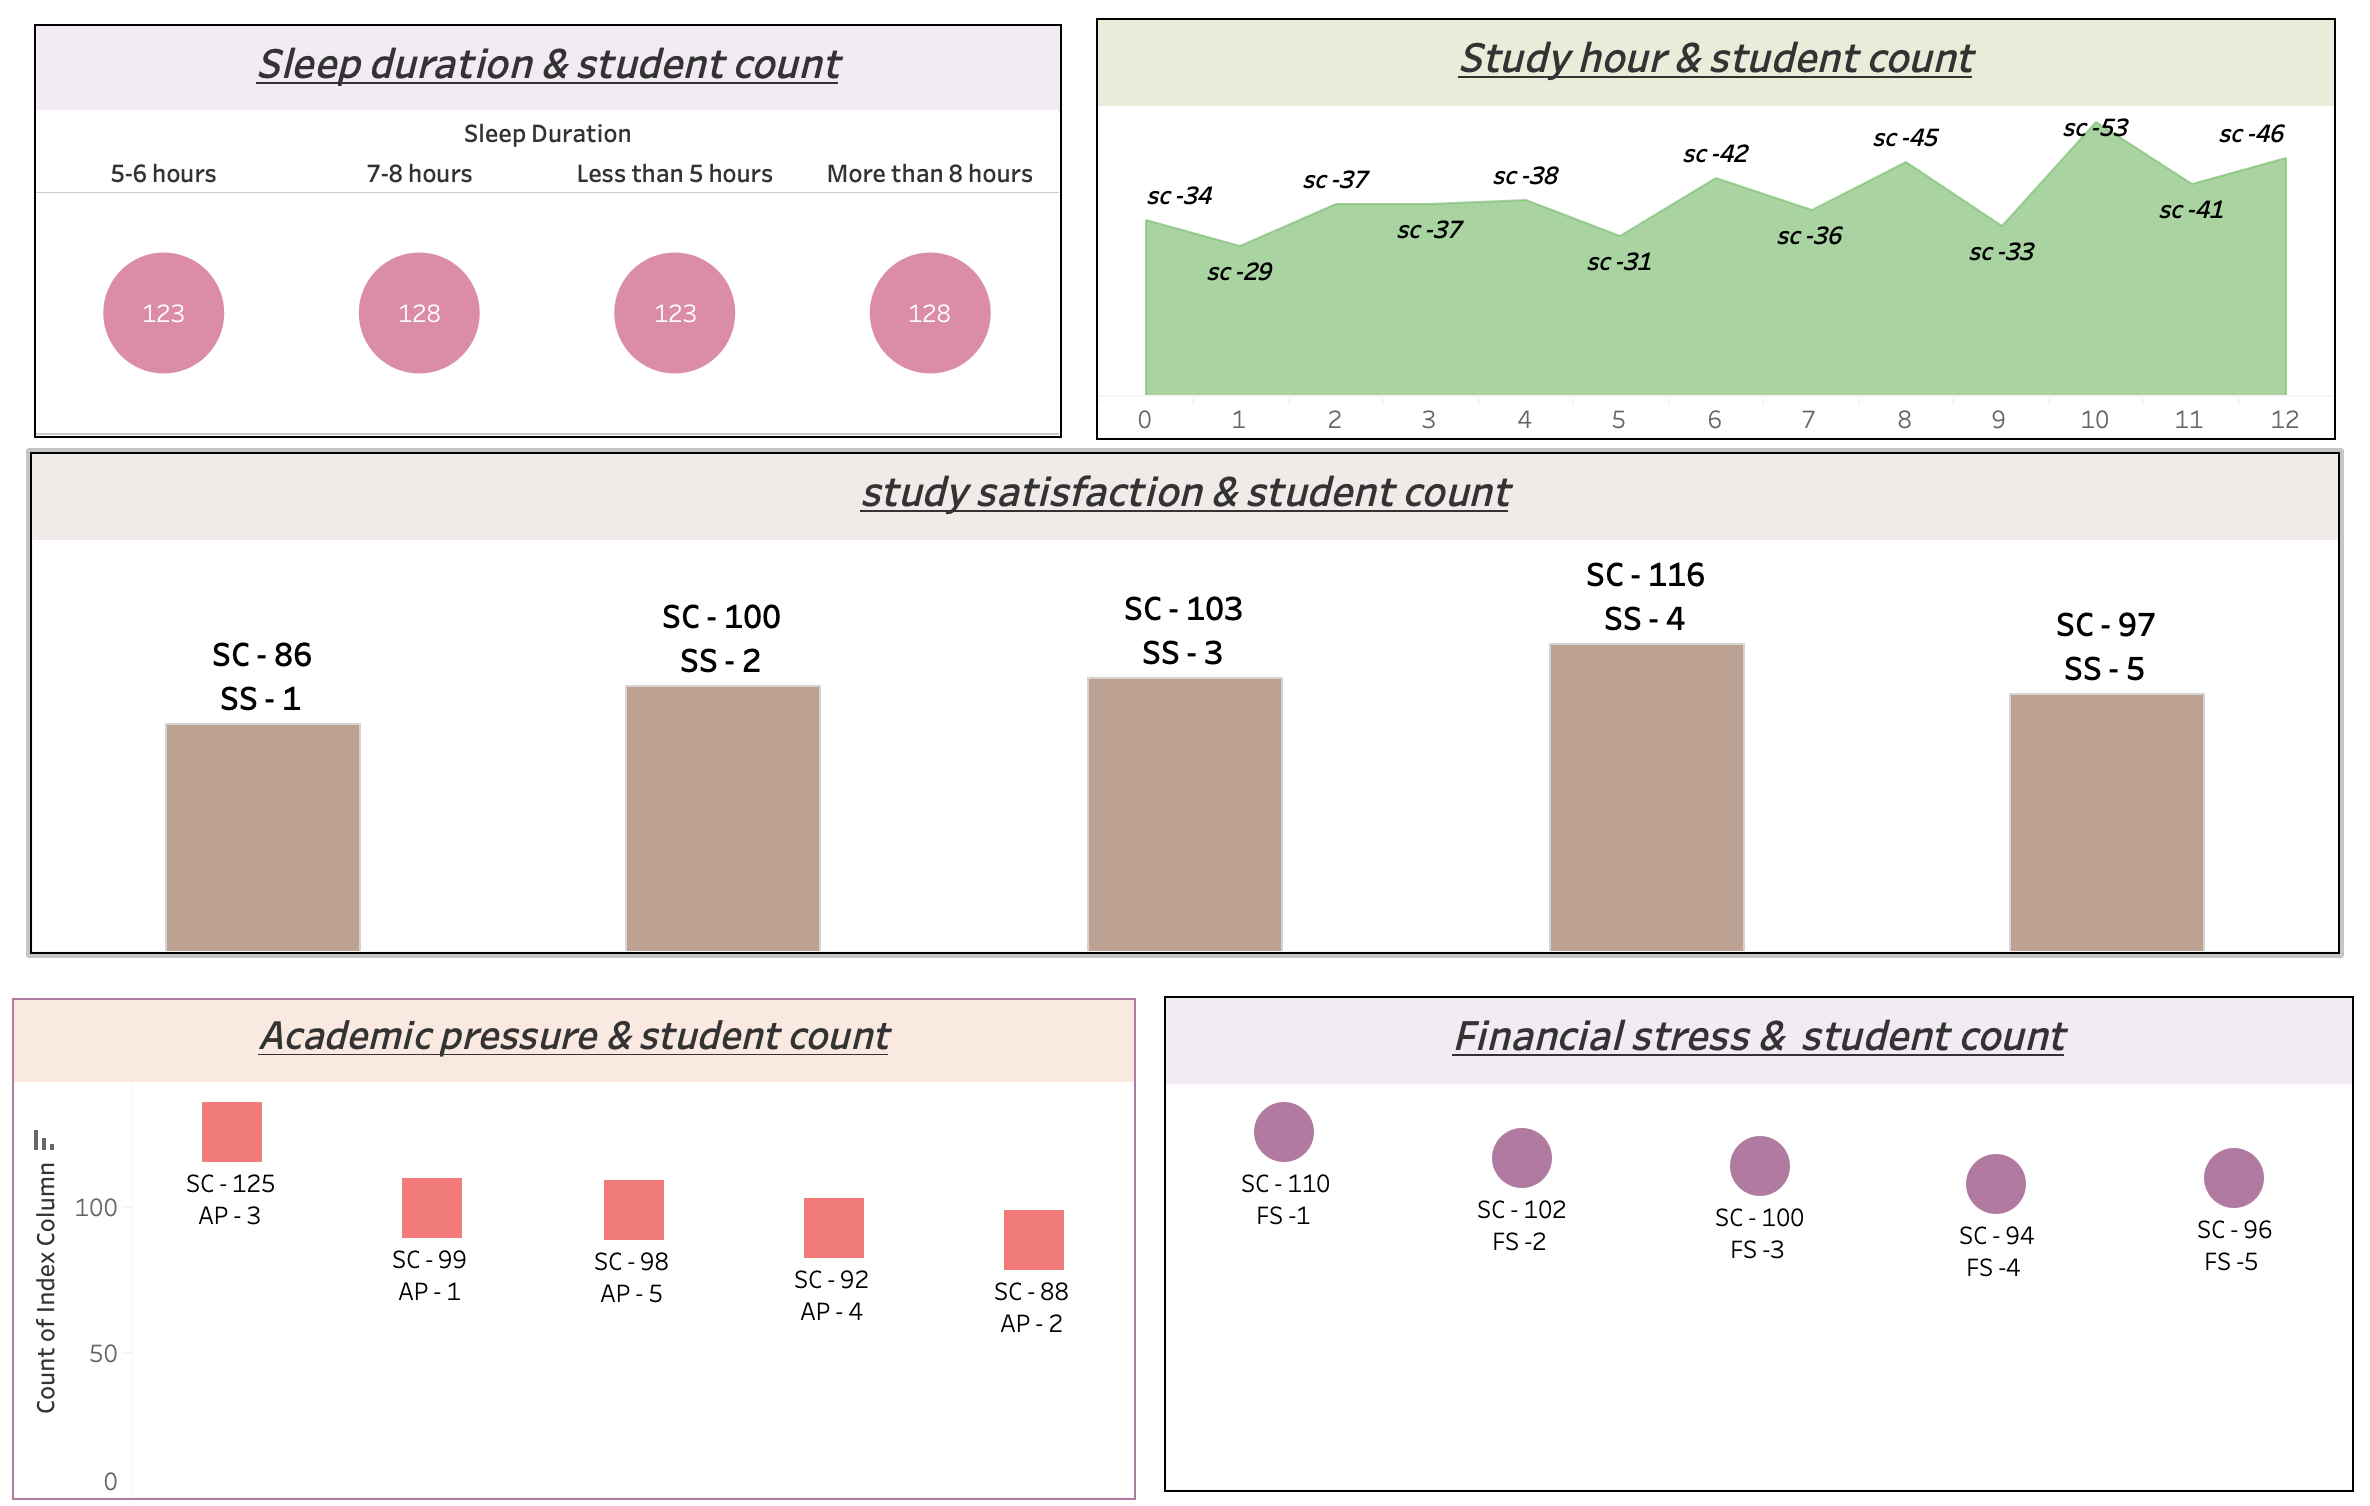

The page's visual inventory and layout, read from the dashboard file:
{"tool":"tableau","page":{"name":"Dashboard 1","canvas":[1000,1000],"units":"permille","ordinal":0},"visuals":[{"type":"worksheet","title":"sh","mark":"Area","rows":["index_column"],"cols":["Study_Hours"],"box":[445.9,14.6,504.5,279.5]},{"type":"worksheet","title":"sd","mark":"Pie","cols":["Sleep_Duration"],"box":[13.8,18.5,418.2,274.2]},{"type":"worksheet","title":"ss","mark":"Automatic","rows":["index_column"],"cols":["Study_Satisfaction"],"box":[12.2,302,939.8,332.4]},{"type":"worksheet","title":"fs","mark":"Circle","rows":["index_column"],"cols":["Financial_Stress"],"box":[473.6,662.2,484.1,328.5]},{"type":"worksheet","title":"Ap","mark":"Square","rows":["index_column"],"cols":["Academic_Pressure"],"box":[4.9,663.6,457.3,332.4]}]}

Visuals, with their boxes on the dashboard's canvas, which has no fixed pixel size, in thousandths of its width and height (x1, y1, x2, y2). These are canvas units, not pixel positions in the 2370x1506 screenshot, which may show the page scaled, cropped or inside an application window:
"sh" worksheet (Area marks): box=[446, 15, 950, 294]
"sd" worksheet (Pie marks): box=[14, 18, 432, 293]
"ss" worksheet: box=[12, 302, 952, 634]
"fs" worksheet (Circle marks): box=[474, 662, 958, 991]
"Ap" worksheet (Square marks): box=[5, 664, 462, 996]
